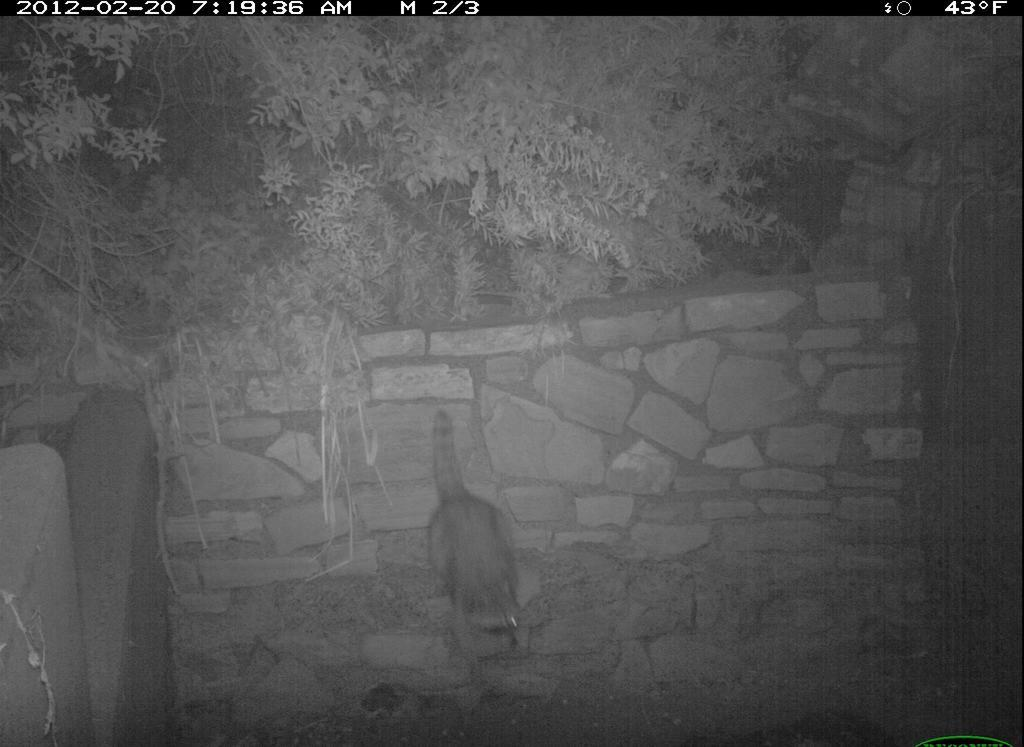raccoon: (414, 409, 556, 685)
